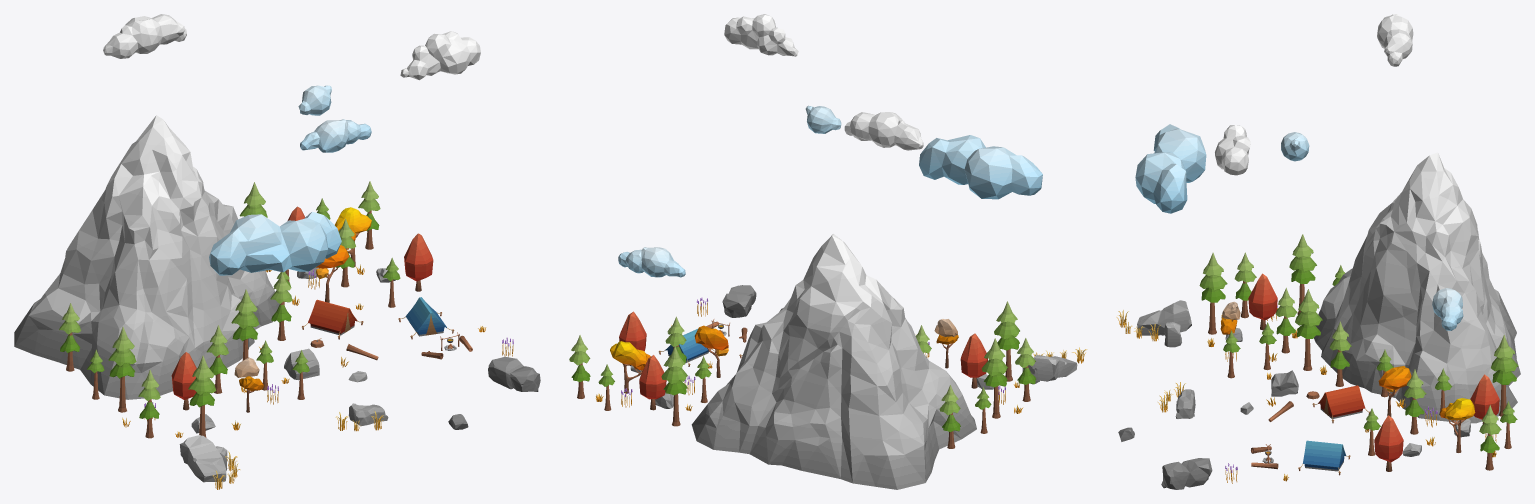
The model's file is setpiece_autumn_camp.glb.
3 views of the same model, side by side, from view 1: azimuth 30°, elevation 25°; view 2: azimuth 150°, elevation 25°; view 3: azimuth 270°, elevation 25° (orthographic). The views are drawn at different scales.
Visible parts, largest first — view 1: mountain 8_42, cloud 4_44, cloud 5_11, cloud 3_20, cloud 2_55, stone small 5_12, stone small 9_40, camping tent red_29, pine tree large (1)_14, autumn tree 23 (1)_54, pine tree large_19, camping tent blue_63 (+14 smaller); view 2: mountain 8_42, cloud 4_44, cloud 3_20, cloud 5_11, cloud 2_55, pine tree large (3)_43, pine tree large (1)_14, pine tree large_19, autumn tree 23 (2)_8, autumn tree 23_73, stone small 5_12, autumn tree 22_69 (+9 smaller); view 3: mountain 8_42, cloud 4_44, cloud 3_20, cloud 5_11, stone small 9_40, stone small 5_12, camping tent red_29, camping tent blue_63, pine tree large_19, pine tree large (2)_52, autumn tree 23 (1)_54, autumn tree 23_73 (+15 smaller).
Part boxes in pixels (x1,y1,x2,y2): mountain 8_42: [14, 115, 279, 399]; cloud 4_44: [209, 211, 341, 275]; cloud 5_11: [400, 31, 480, 80]; cloud 3_20: [103, 14, 186, 58]; cloud 2_55: [300, 119, 371, 152]; stone small 5_12: [179, 435, 226, 482]; stone small 9_40: [488, 356, 540, 391]; camping tent red_29: [302, 299, 363, 339]; pine tree large (1)_14: [108, 327, 136, 412]; autumn tree 23 (1)_54: [404, 233, 433, 291]; pine tree large_19: [188, 355, 216, 437]; camping tent blue_63: [398, 297, 454, 339]; mountain 8_42: [691, 233, 976, 489]; cloud 4_44: [919, 135, 1042, 199]; cloud 3_20: [844, 112, 923, 150]; cloud 5_11: [724, 14, 798, 56]; cloud 2_55: [618, 247, 685, 277]; pine tree large (3)_43: [661, 346, 687, 426]; pine tree large (1)_14: [981, 338, 1007, 418]; pine tree large_19: [994, 301, 1019, 381]; autumn tree 23 (2)_8: [639, 355, 666, 410]; autumn tree 23_73: [960, 333, 987, 388]; stone small 5_12: [1032, 355, 1077, 381]; autumn tree 22_69: [610, 341, 650, 393]; mountain 8_42: [1314, 152, 1520, 423]; cloud 4_44: [1135, 124, 1206, 213]; cloud 3_20: [1377, 14, 1413, 66]; cloud 5_11: [1215, 125, 1250, 175]; stone small 9_40: [1161, 458, 1212, 489]; stone small 5_12: [1137, 300, 1191, 335]; camping tent red_29: [1312, 385, 1369, 423]; camping tent blue_63: [1298, 440, 1350, 475]; pine tree large_19: [1199, 252, 1227, 334]; pine tree large (2)_52: [1295, 289, 1322, 370]; autumn tree 23 (1)_54: [1374, 415, 1403, 471]; autumn tree 23_73: [1248, 273, 1277, 330].
Bounding box in the file's own units: 13.24 × 12.19 × 12.95.
Materials: 1 (1 with a texture image).
